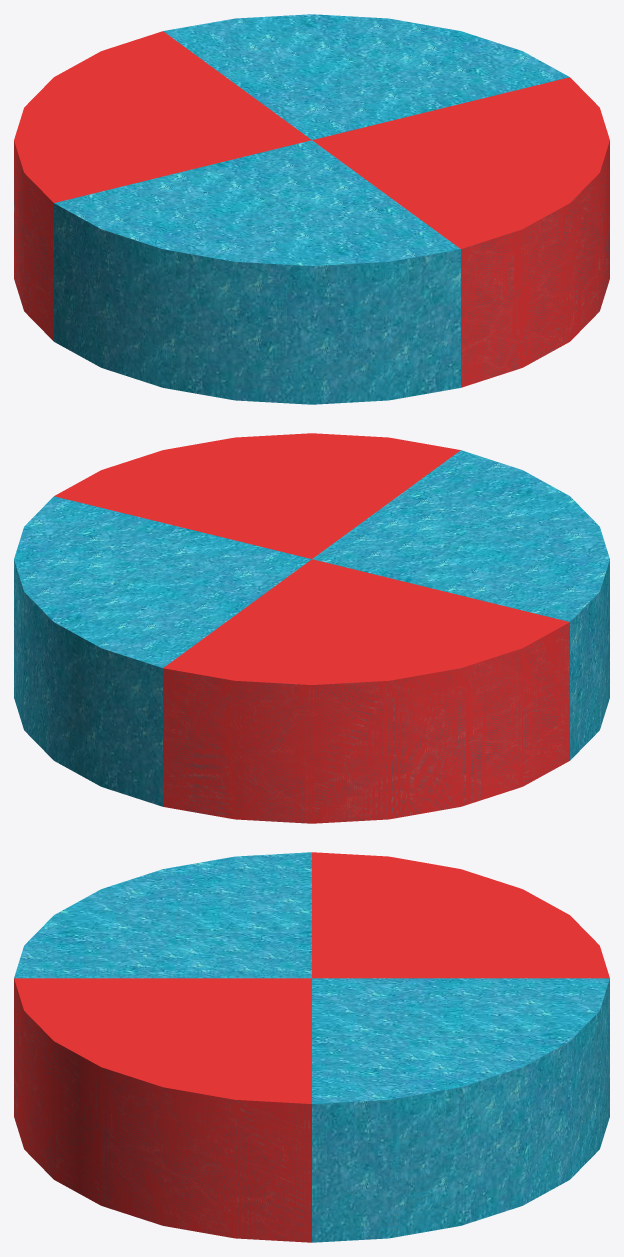
The model's file is myCylinder.dae.
The picture shows the model from 3 angles, top to bottom: view 1: azimuth 30°, elevation 25°; view 2: azimuth 150°, elevation 25°; view 3: azimuth 270°, elevation 25°; orthographic projection.
Visible parts, largest first — view 1: SketchUp (×7); view 2: SketchUp (×7); view 3: SketchUp (×6).
Boxes of the visible parts, x1,y1,x2,y2 form: SketchUp (×7): [14, 14, 609, 404]; SketchUp (×7): [14, 433, 609, 823]; SketchUp (×6): [14, 852, 609, 1242].
Bounding box in the file's own units: 296 × 296 × 75.98.
